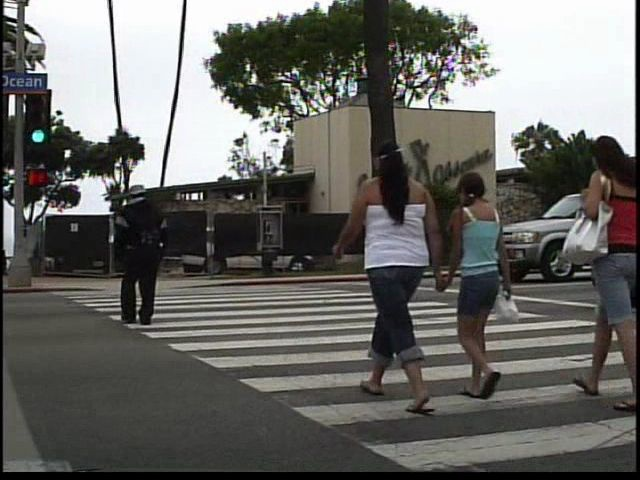person: (339, 125, 451, 411), (449, 168, 523, 416), (107, 180, 173, 336)
